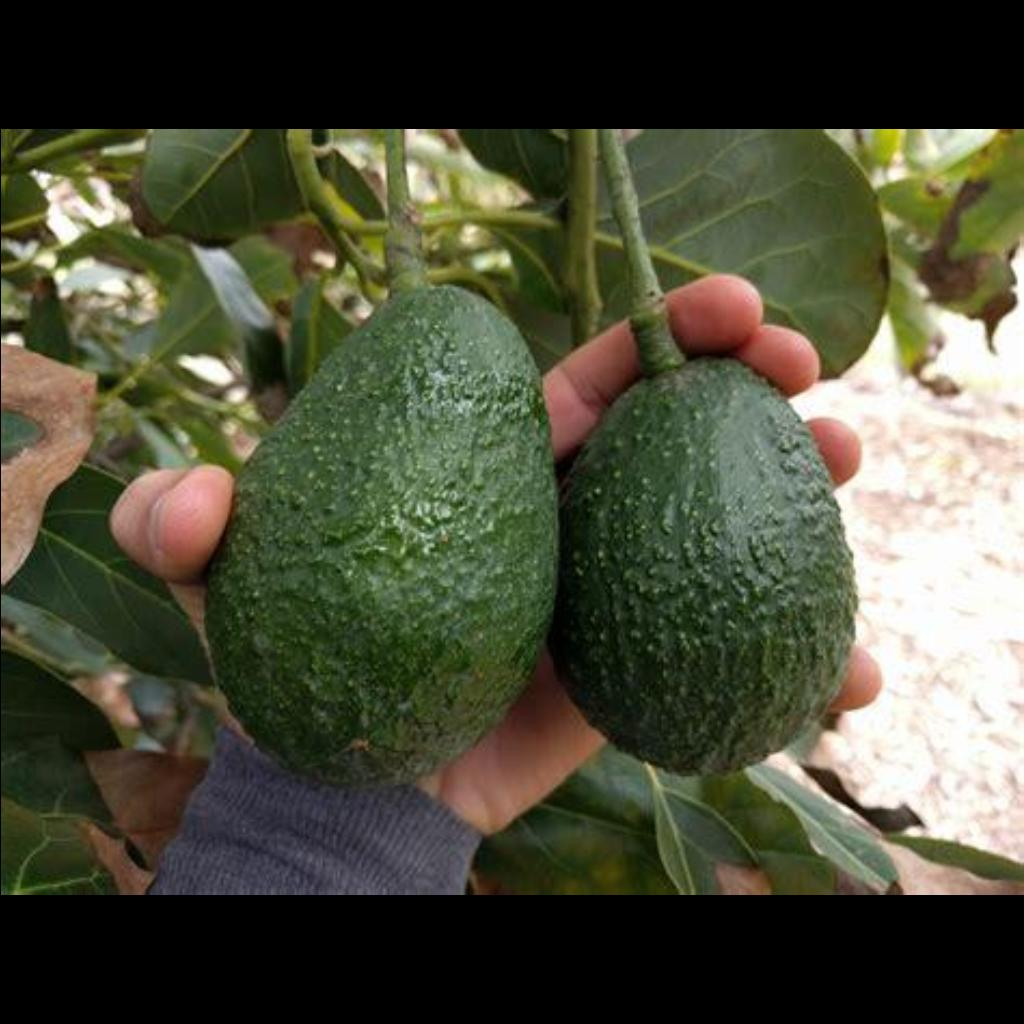Healthy: (216, 274, 560, 790), (576, 367, 858, 777)
